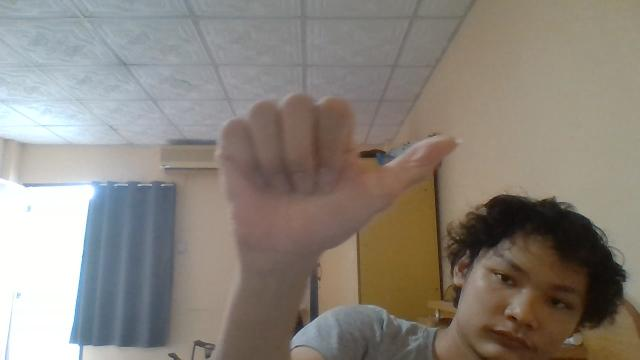left: (215, 92, 458, 272)
